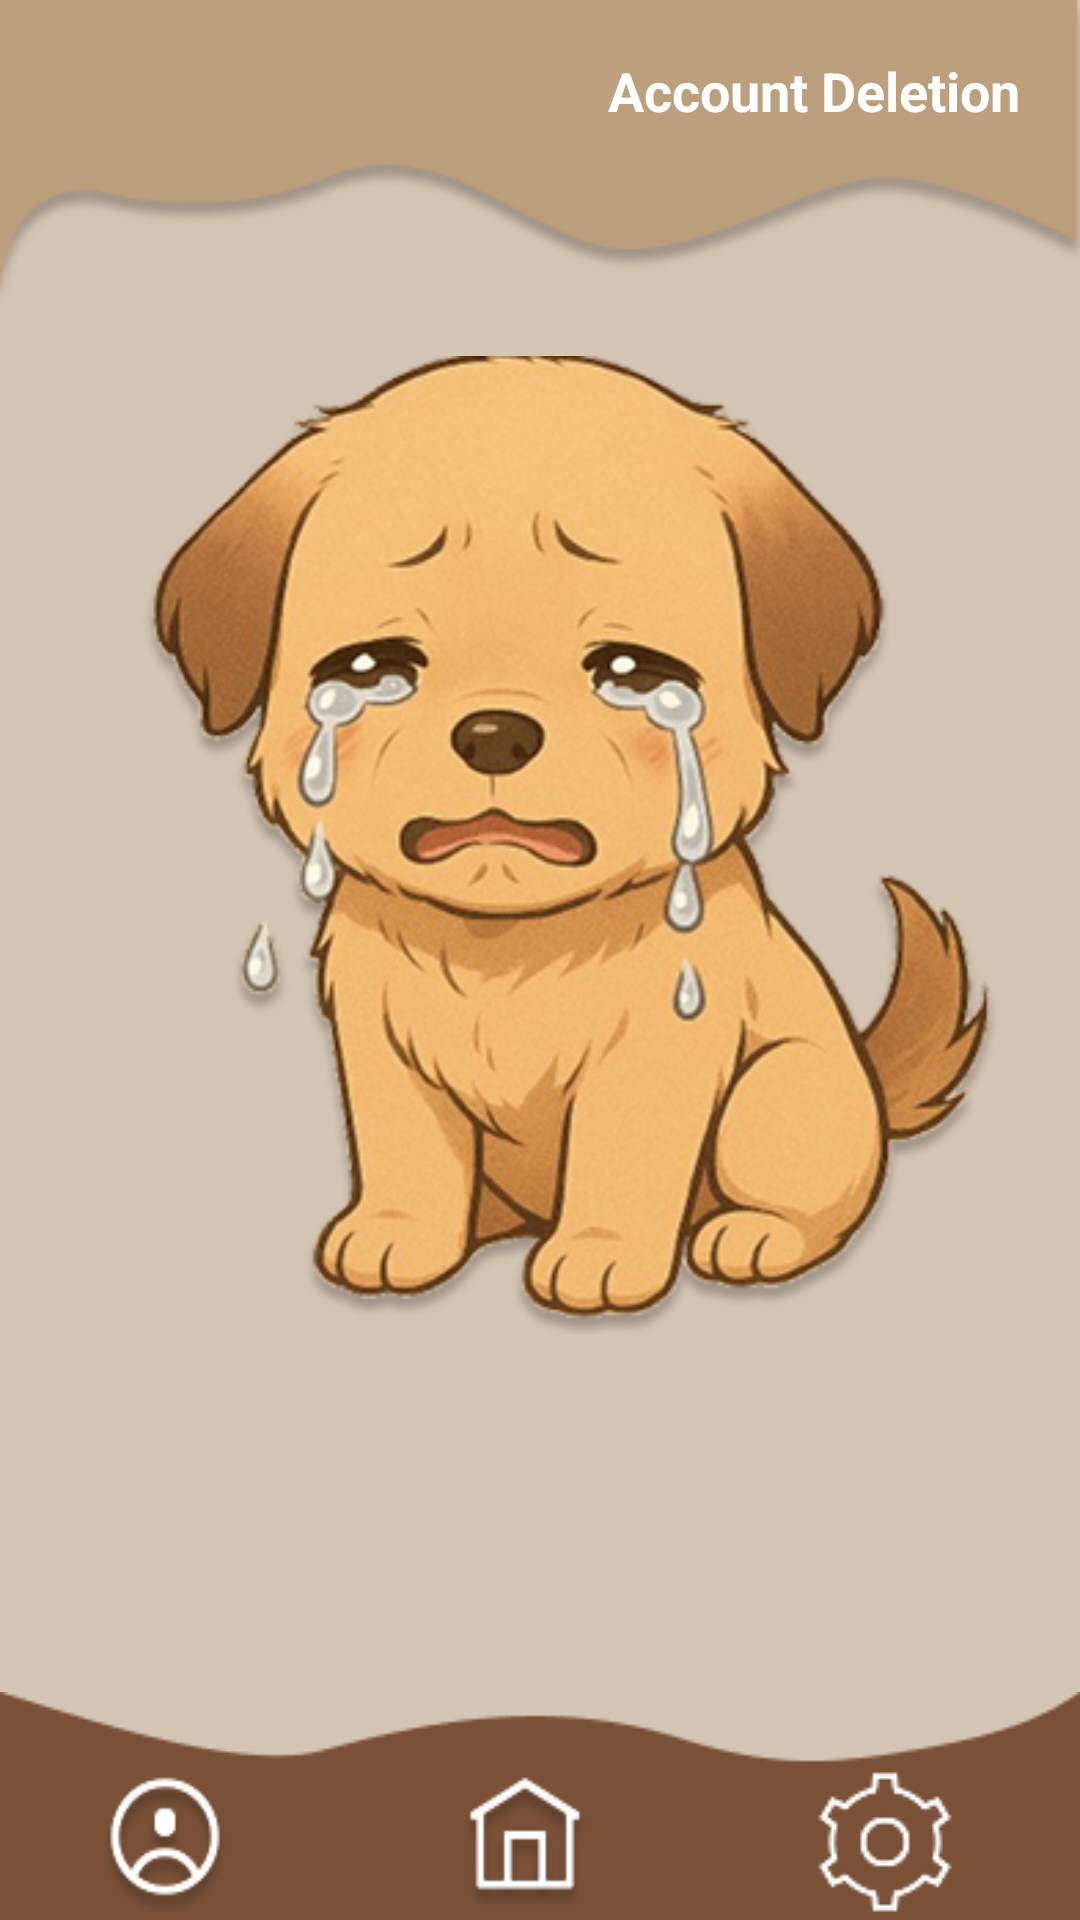

Icons on this 1080×1920 Android screen, each with the point to tap as point (x, y):
home: point (525, 1833)
profile: point (165, 1836)
settings: point (885, 1842)
